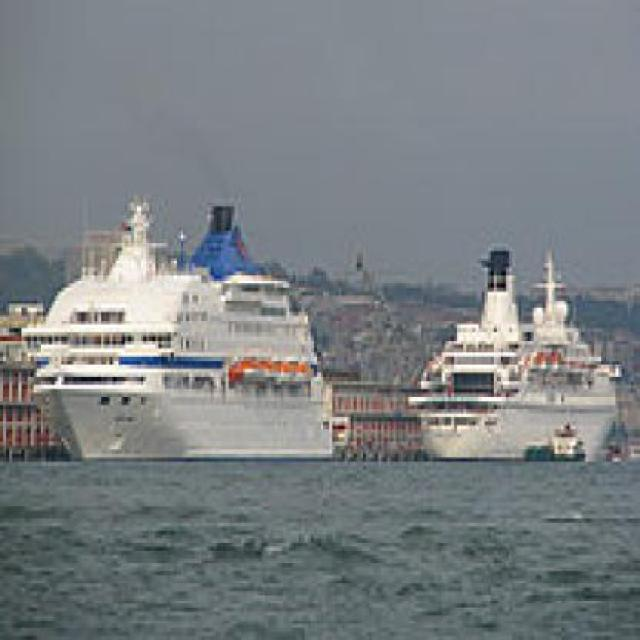cruise: (16, 187, 349, 475), (415, 236, 629, 476)
